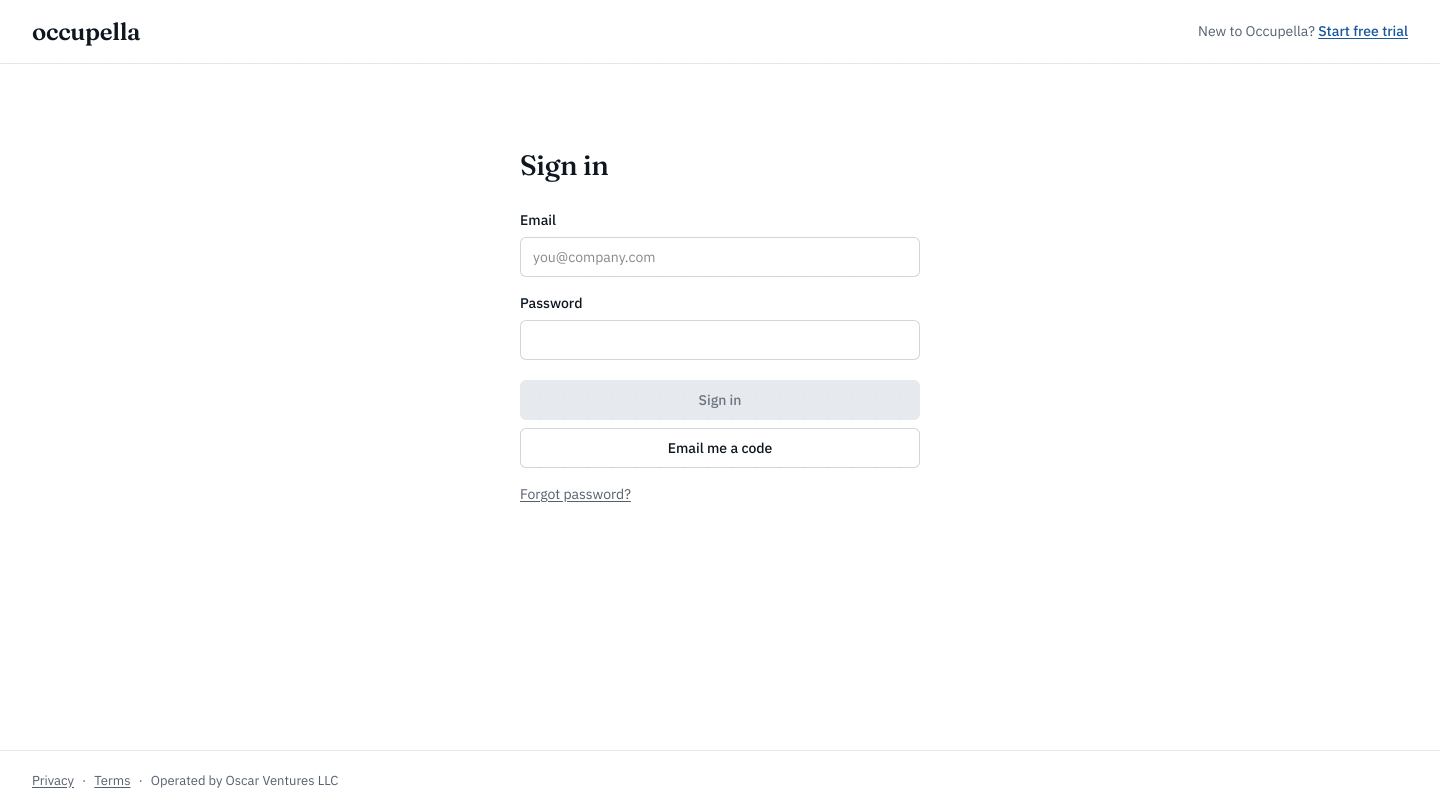
Test: what the user is told › names the wait when the server rate-limits
Type "sam@example.com" into the field with placeholder "you@company.com".
click(720, 257); type("sam@example.com")  # box [520, 237, 920, 277]
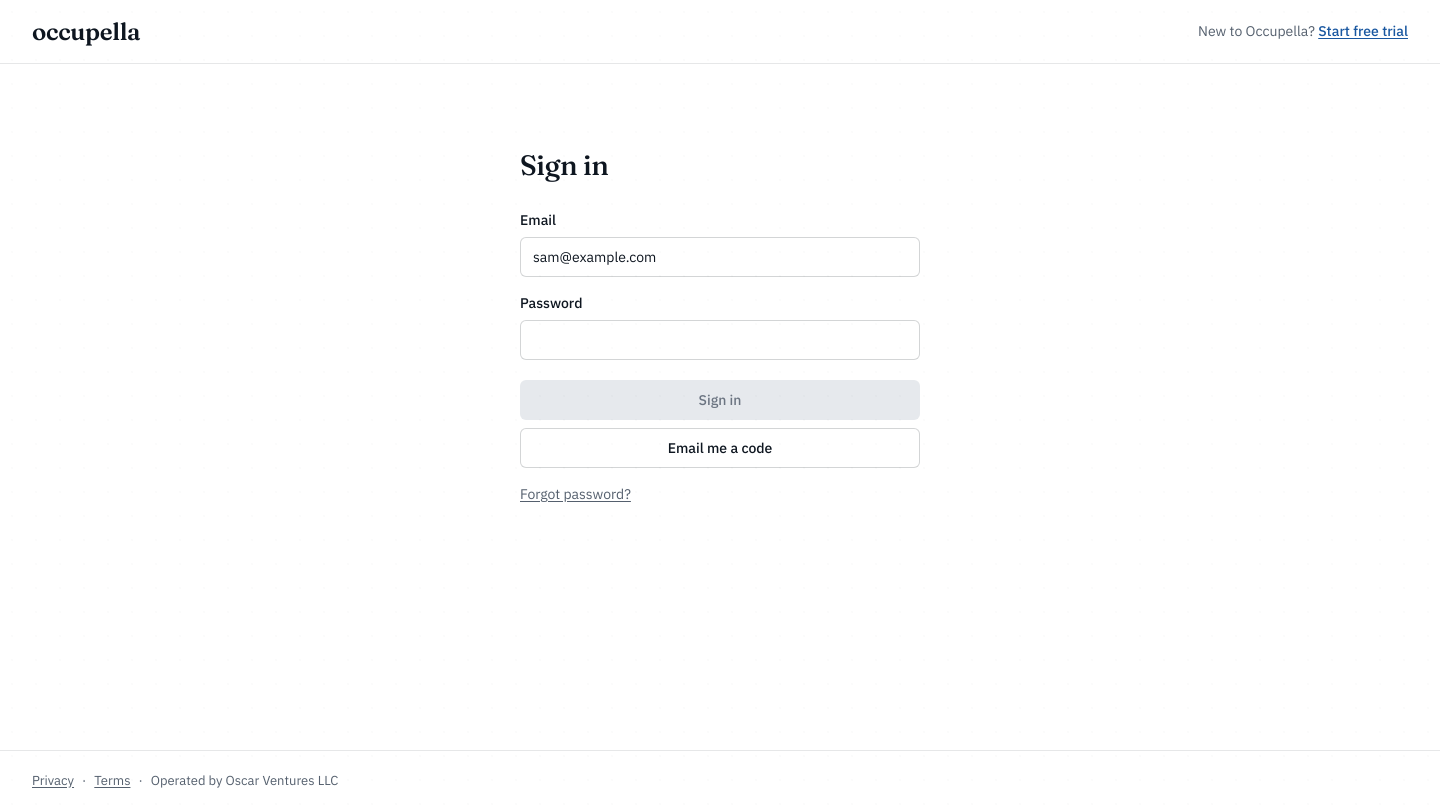
Click the button "Forgot password?".
click(575, 494)  # box [520, 484, 631, 505]
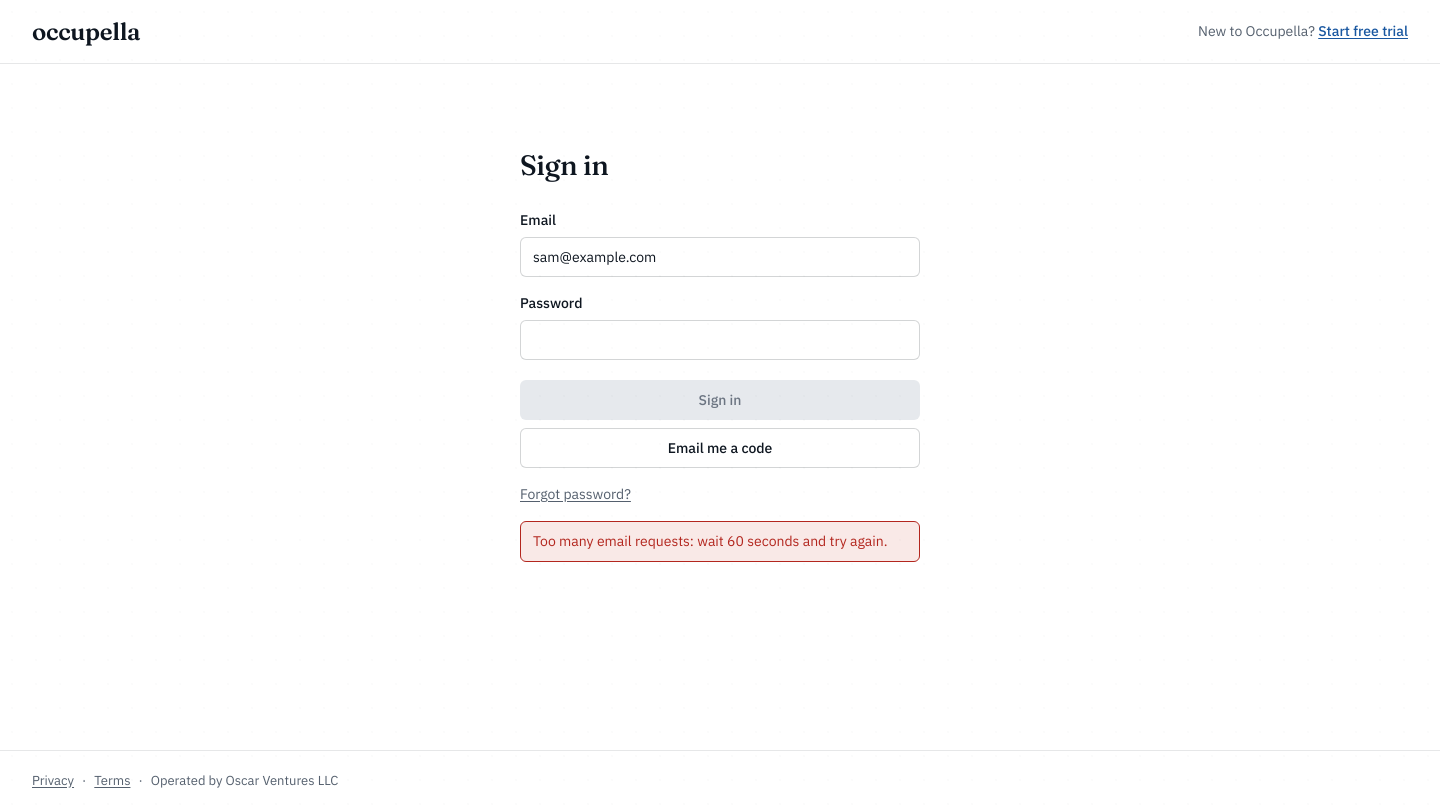
Now the text "Too many email requests: wait 60 seconds and try again." is shown, box [520, 521, 920, 562]
